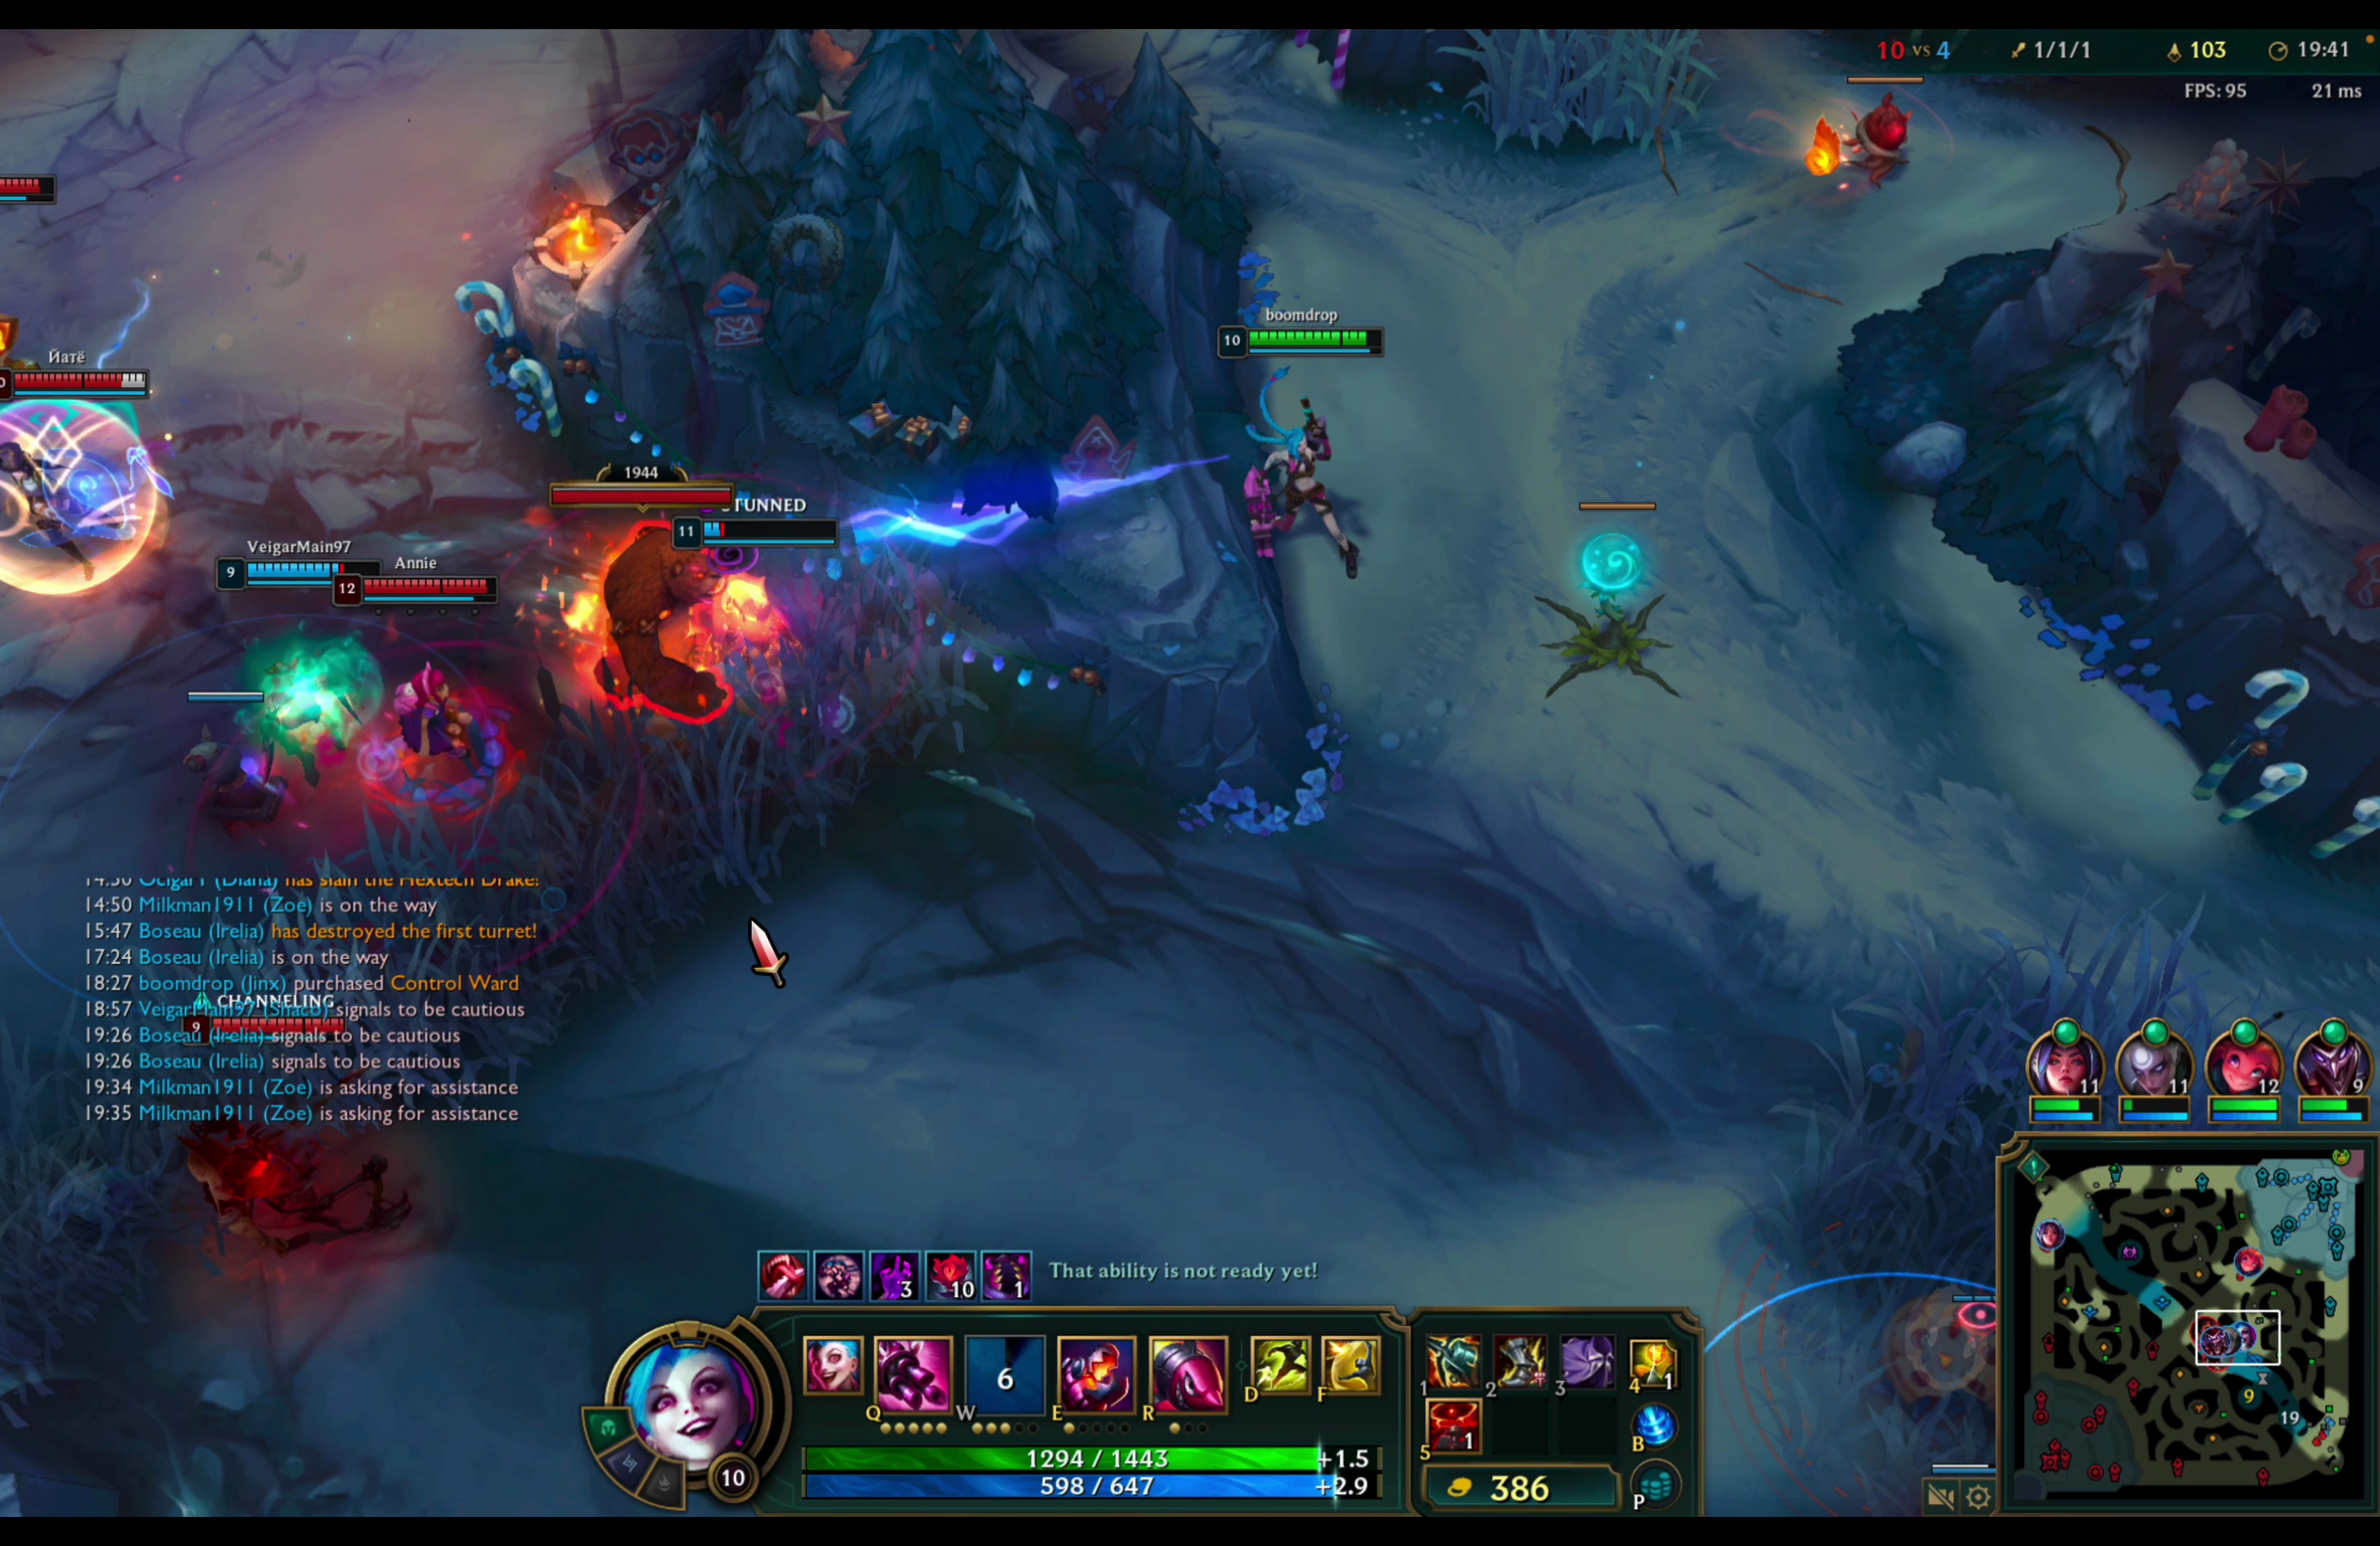JINX_W_PROJECTILE: (831, 295, 1466, 621)
